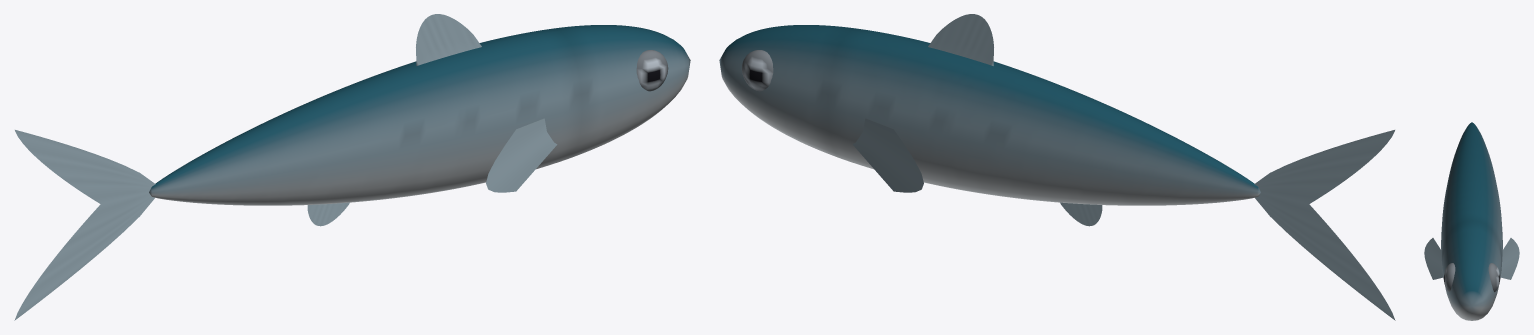
Rendered from sardalya.glb.
3 renders of one model, left to right at view 1: azimuth 30°, elevation 25°; view 2: azimuth 150°, elevation 25°; view 3: azimuth 270°, elevation 25°, orthographic. The views are drawn at different scales.
Visible parts, largest first — view 1: sardalya_govde, sardalya_kuyruk, sardalya_gogusL, sardalya_sirt, sardalya_gozL, sardalya_anal_a; view 2: sardalya_govde, sardalya_kuyruk, sardalya_gogusR, sardalya_sirt, sardalya_gozR, sardalya_anal_a; view 3: sardalya_govde, sardalya_gogusL, sardalya_gogusR, sardalya_gozL, sardalya_gozR.
Part boxes in pixels (x1,y1,x2,y2): sardalya_govde: (149, 25, 690, 205); sardalya_kuyruk: (14, 130, 155, 320); sardalya_gogusL: (486, 118, 557, 192); sardalya_sirt: (416, 14, 481, 65); sardalya_gozL: (636, 50, 668, 91); sardalya_anal_a: (307, 202, 349, 226); sardalya_govde: (719, 25, 1260, 205); sardalya_kuyruk: (1254, 130, 1395, 320); sardalya_gogusR: (852, 118, 923, 192); sardalya_sirt: (928, 14, 993, 65); sardalya_gozR: (741, 50, 773, 91); sardalya_anal_a: (1060, 202, 1102, 226); sardalya_govde: (1441, 122, 1502, 320); sardalya_gogusL: (1424, 238, 1443, 279); sardalya_gogusR: (1500, 238, 1519, 279); sardalya_gozL: (1443, 263, 1455, 292); sardalya_gozR: (1488, 263, 1500, 292).
Size of the model in its own units: 1.04 by 0.2987 by 0.1842.
